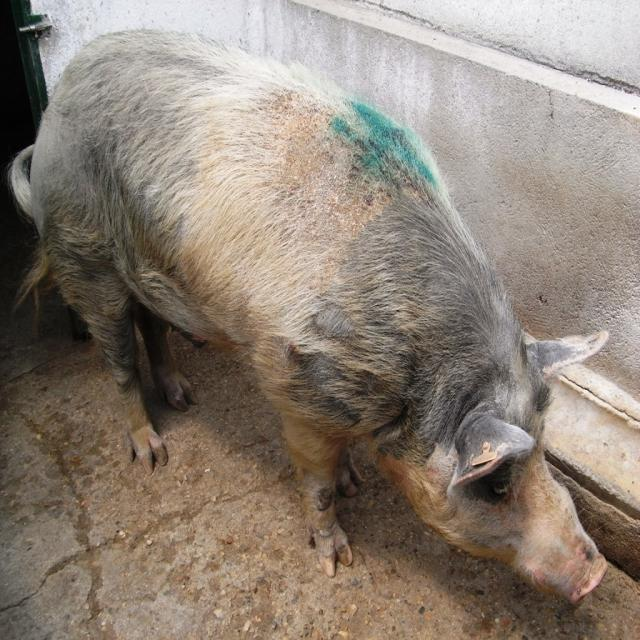Pig: (5, 29, 606, 608)
